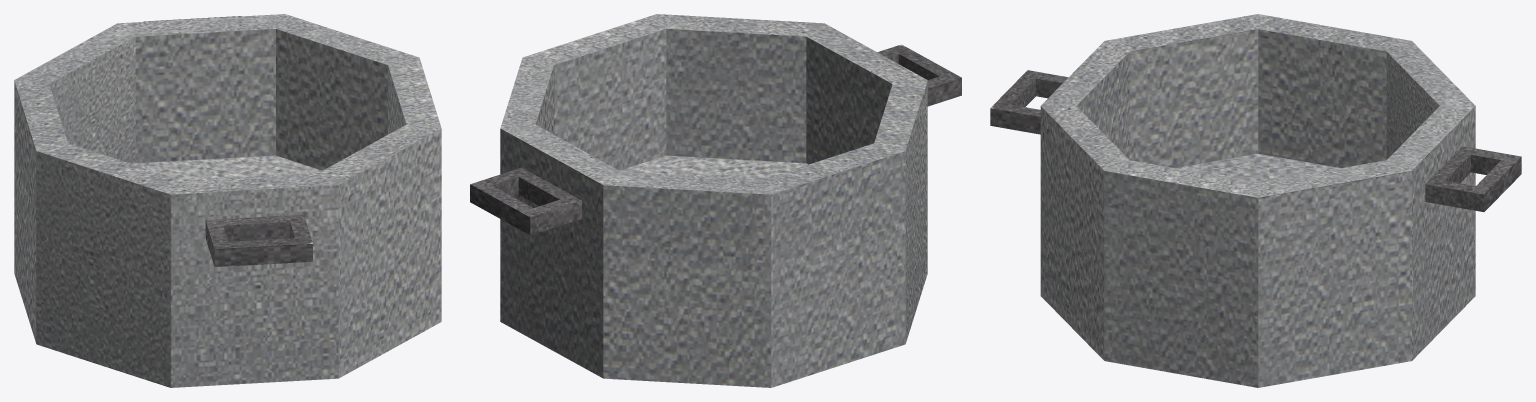
File: CookingPot.fbx
3 views of the same model, side by side, from view 1: azimuth 30°, elevation 25°; view 2: azimuth 150°, elevation 25°; view 3: azimuth 270°, elevation 25° (orthographic).
Visible parts, largest first — view 1: CookingPot; view 2: CookingPot; view 3: CookingPot.
Boxes of the visible parts, x1,y1,x2,y2 form: CookingPot: [14, 14, 441, 387]; CookingPot: [470, 14, 961, 387]; CookingPot: [990, 14, 1521, 387].
Bounding box in the file's own units: 159 × 76.87 × 195.
1 material, 1 textured.
